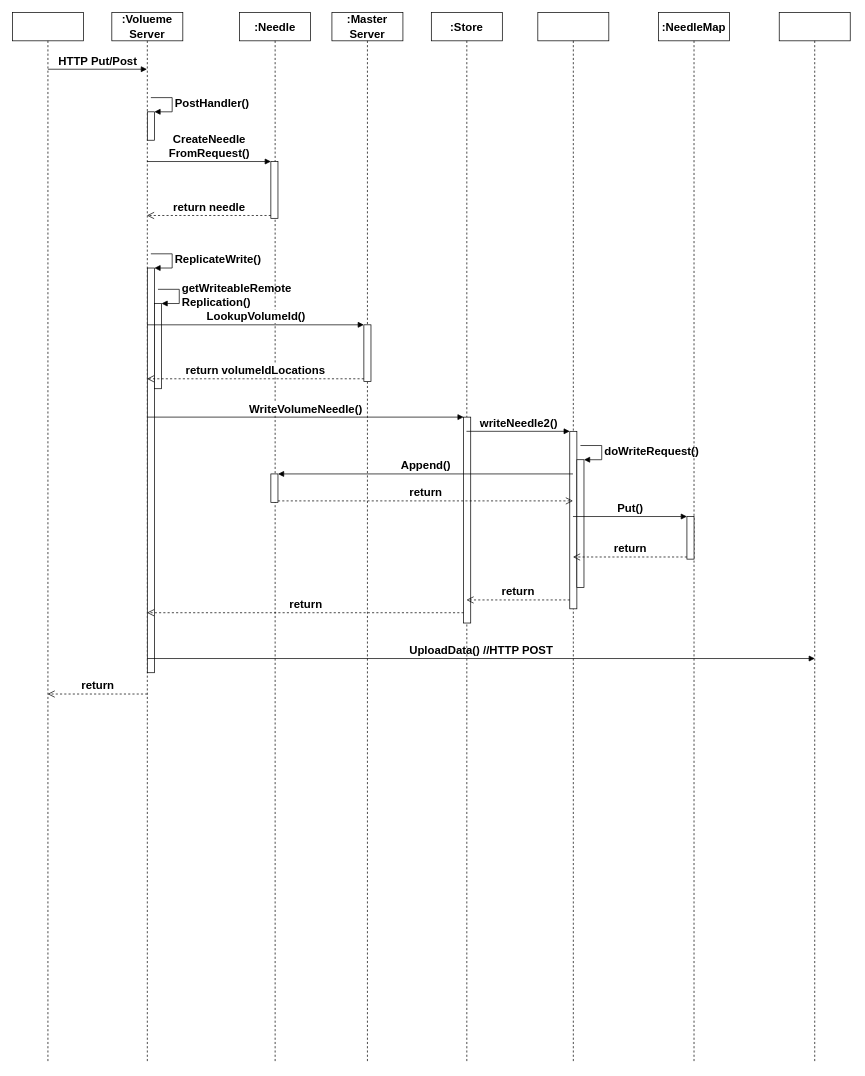
The diagram is 865 pixels wide and 1076 high, and some of its shapes have lost their labels. Each missing label, with the box of its shape:
:Replicate VolumeServer: (779, 12, 850, 1063)
:Volume: (537, 12, 609, 1063)
Client: (12, 12, 83, 1063)
